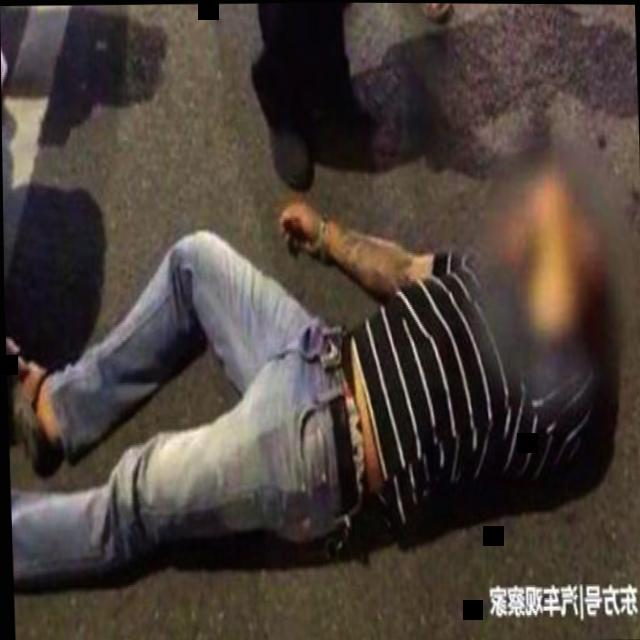Fall-Detected: (2, 157, 640, 606)
